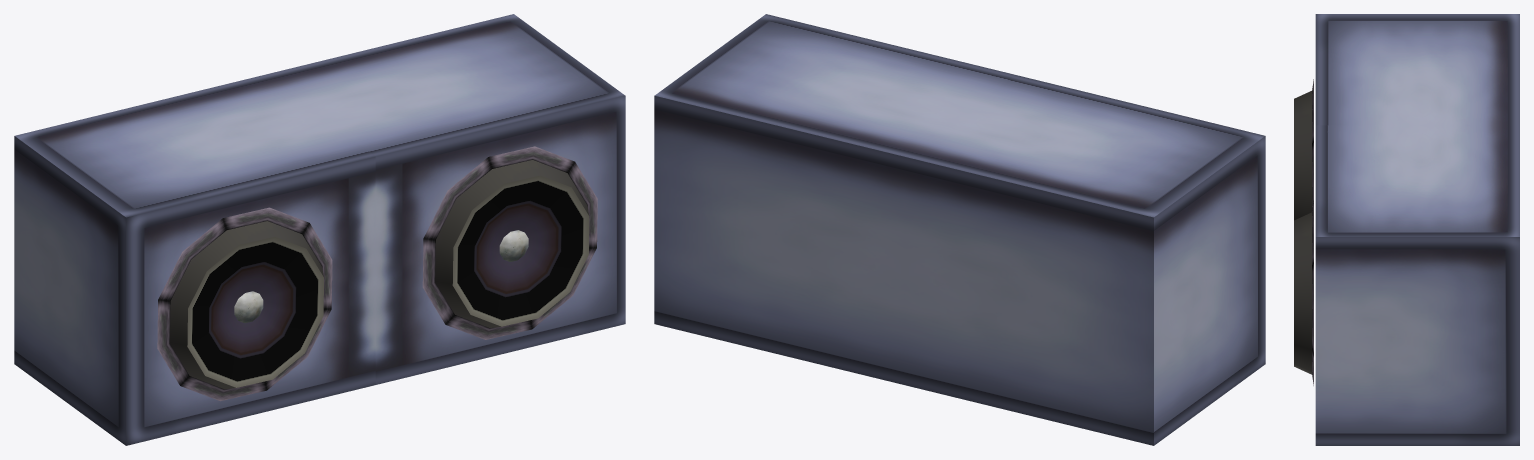
File: discospeakers.DAE
3 renders of one model, left to right at view 1: azimuth 30°, elevation 25°; view 2: azimuth 150°, elevation 25°; view 3: azimuth 270°, elevation 25°, orthographic. The views are drawn at different scales.
Parts seen in each view (by area): view 1: Box01; view 2: Box01; view 3: Box01.
Part boxes in pixels (x1=…): Box01: x1=14, y1=14, x2=625, y2=445; Box01: x1=654, y1=14, x2=1265, y2=445; Box01: x1=1294, y1=14, x2=1519, y2=445.
Bounding box in the file's own units: 1.78 × 0.7766 × 0.7603.
